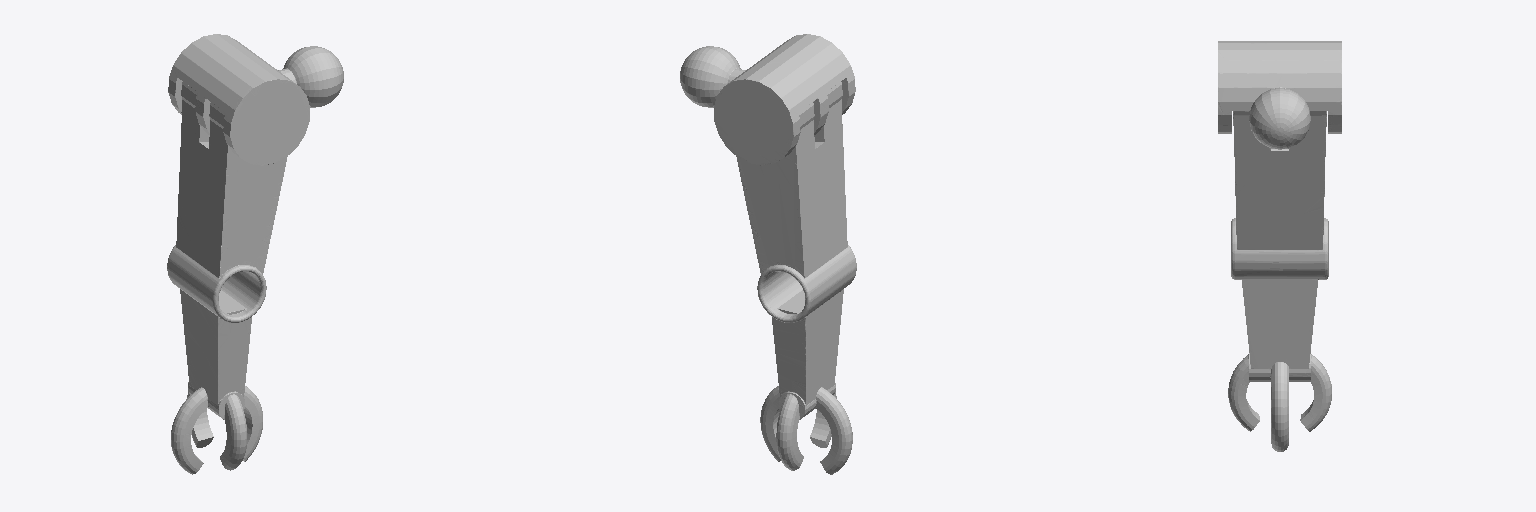
File: WALLE_E_RIGHT_ARM_HOLLOW_1MM_Positioned.obj
3 views of the same model, side by side, from view 1: azimuth 30°, elevation 25°; view 2: azimuth 150°, elevation 25°; view 3: azimuth 270°, elevation 25° (orthographic).
Parts seen in each view (by area): view 1: WALLE_E_RIGHT_ARM_HOLLOW_1MM:Mesh; view 2: WALLE_E_RIGHT_ARM_HOLLOW_1MM:Mesh; view 3: WALLE_E_RIGHT_ARM_HOLLOW_1MM:Mesh.
Boxes of the visible parts, <box> form: WALLE_E_RIGHT_ARM_HOLLOW_1MM:Mesh: <box>167,34,343,474</box>; WALLE_E_RIGHT_ARM_HOLLOW_1MM:Mesh: <box>680,34,856,474</box>; WALLE_E_RIGHT_ARM_HOLLOW_1MM:Mesh: <box>1218,41,1341,451</box>.
Bounding box in the file's own units: 6.25 × 14.37 × 4.